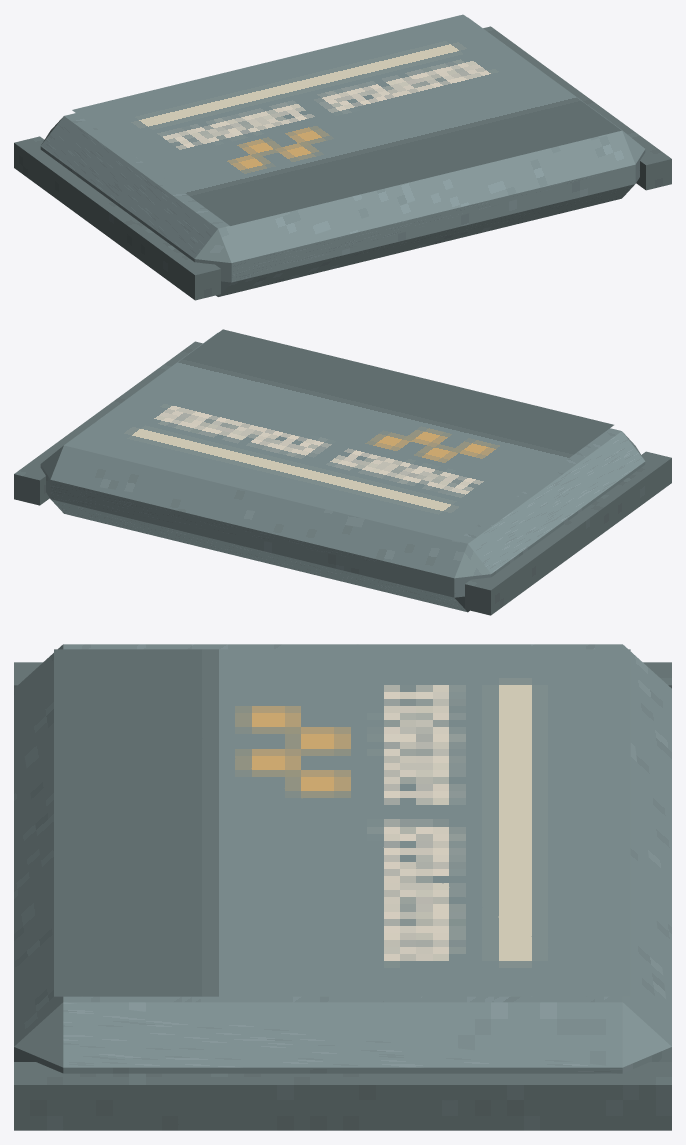
The model's file is yogurt_starter_culture.glb.
3 views of the same model, one above another, from view 1: azimuth 30°, elevation 25°; view 2: azimuth 150°, elevation 25°; view 3: azimuth 270°, elevation 25° (orthographic). The views are drawn at different scales.
Visible parts, largest first — view 1: block_printed sachet panel, block_filled laminated sachet, block_crimped closure (×2); view 2: block_printed sachet panel, block_filled laminated sachet, block_crimped closure (×2); view 3: block_printed sachet panel, block_filled laminated sachet, block_crimped closure (×2).
Boxes of the visible parts, x1=… form: block_printed sachet panel: x1=72, y1=14, x2=621, y2=225; block_filled laminated sachet: x1=40, y1=17, x2=645, y2=296; block_crimped closure (×2): x1=14, y1=26, x2=671, y2=300; block_printed sachet panel: x1=64, y1=329, x2=613, y2=540; block_filled laminated sachet: x1=40, y1=333, x2=645, y2=612; block_crimped closure (×2): x1=14, y1=341, x2=671, y2=615; block_printed sachet panel: x1=54, y1=649, x2=630, y2=996; block_filled laminated sachet: x1=14, y1=644, x2=671, y2=1073; block_crimped closure (×2): x1=14, y1=662, x2=671, y2=1130.
Size of the model in its own units: 0.0756 by 0.0107 by 0.0497.
1 material, 1 textured.
